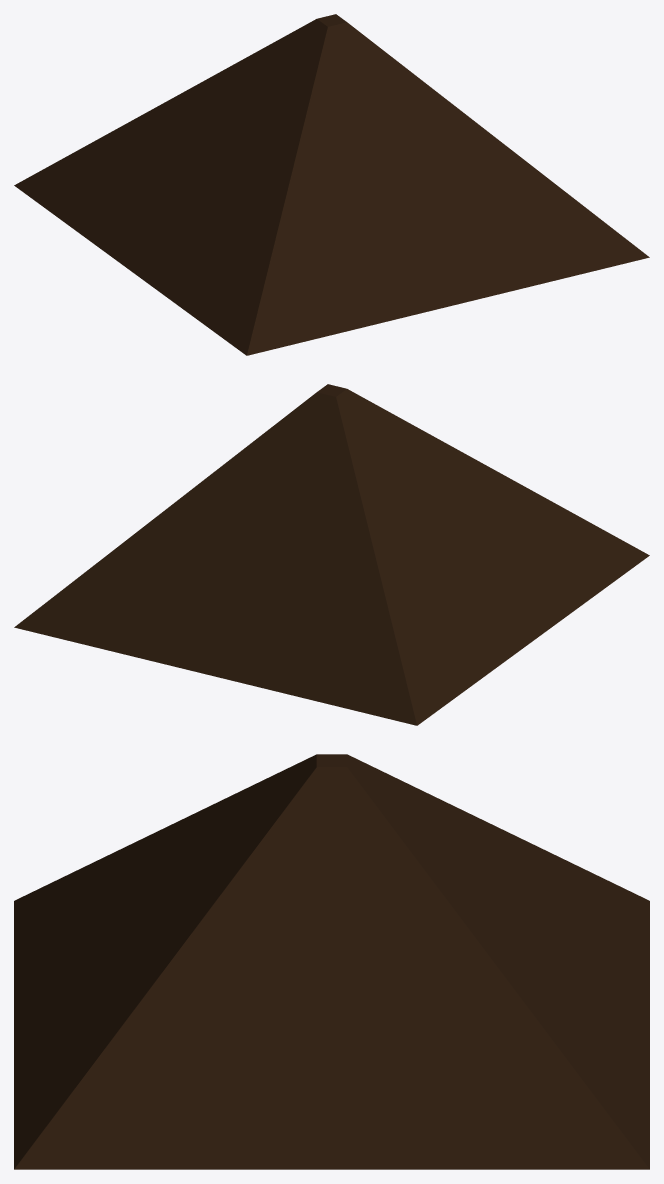
File: RoofPyramid_DP_1110.fbx
3 views of the same model, one above another, from view 1: azimuth 30°, elevation 25°; view 2: azimuth 150°, elevation 25°; view 3: azimuth 270°, elevation 25° (orthographic). The views are drawn at different scales.
Visible parts, largest first — view 1: Cube.109; view 2: Cube.109; view 3: Cube.109.
Part boxes in pixels (x1,y1,x2,y2): Cube.109: (14, 14, 649, 355); Cube.109: (14, 384, 649, 725); Cube.109: (14, 754, 649, 1169).
Size of the model in its own units: 840 by 400 by 840.
